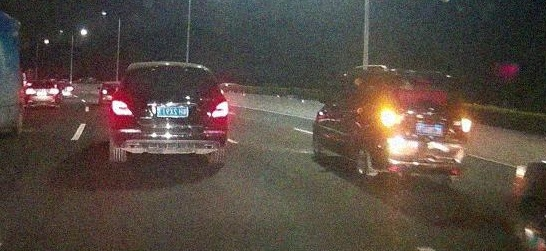L_light: (380, 109, 403, 127), (112, 101, 137, 115), (27, 89, 36, 94)
R_light: (205, 101, 228, 117), (449, 116, 470, 133), (49, 89, 59, 94)
T_light: (412, 77, 431, 84), (158, 65, 175, 71), (39, 82, 46, 85)
night-left: (379, 69, 471, 184)
night-no: (110, 62, 228, 163), (26, 80, 60, 109)
